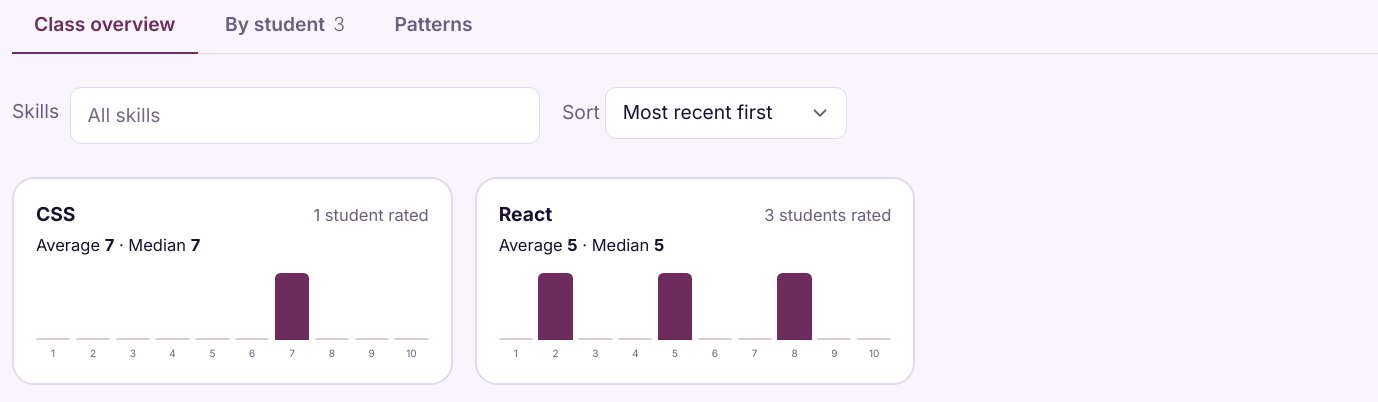
Scenario: SkillConfidenceInstructorView › shows every skill again when the picked skills are removed
Click the dropdown labelled "Skills": (305, 116) [82,96,528,135]
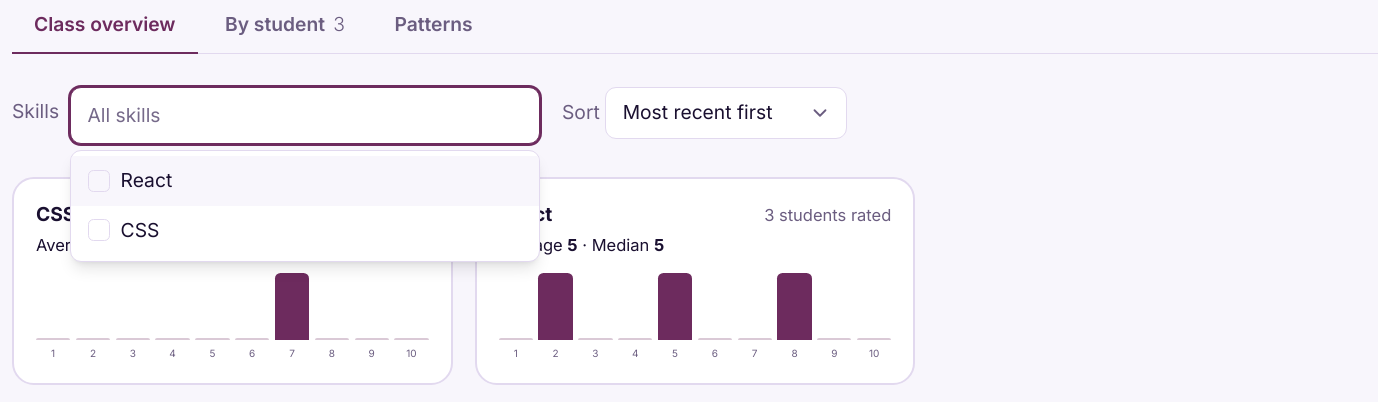
Click the option "CSS": (124, 230) [88,218,159,242]
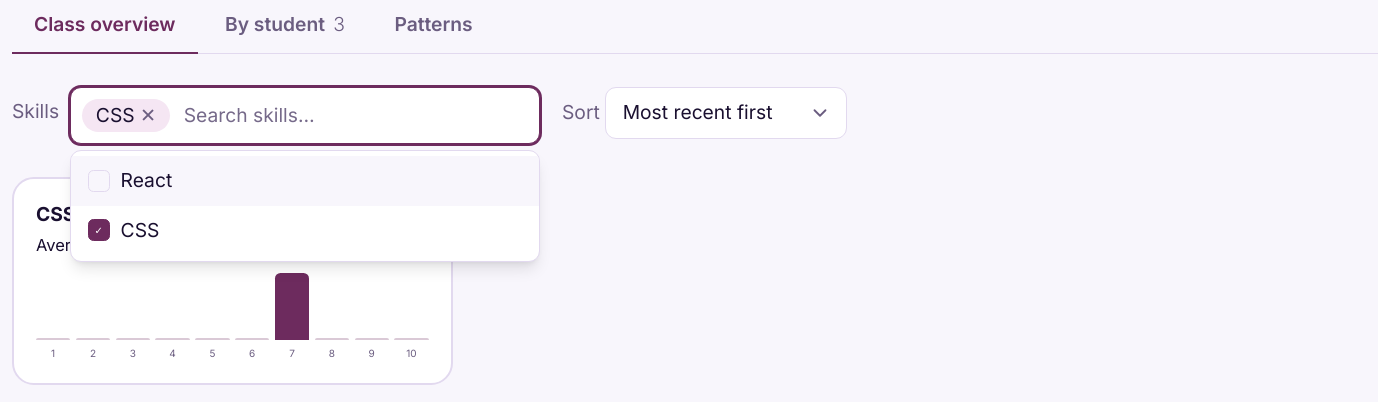
Click the button with aria-label "Remove CSS": (126, 116) [82,99,170,132]
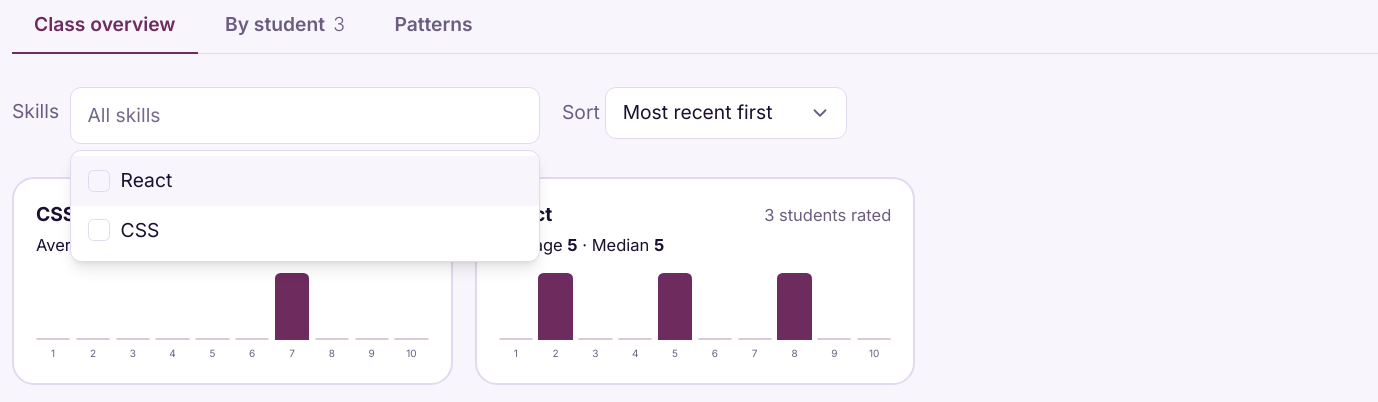
Expected: the heading "CSS" is shown, [36,201,76,228]
Now the heading "React" is shown, box [499,201,552,228]
